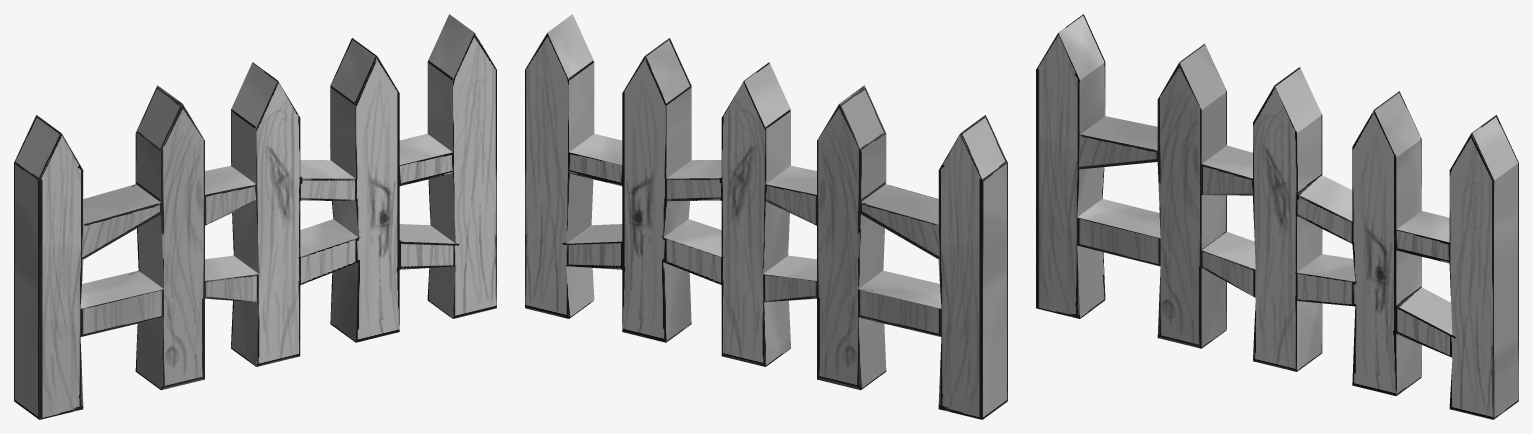
The model's file is AITA.fbx.
3 views of the same model, side by side, from view 1: azimuth 30°, elevation 25°; view 2: azimuth 150°, elevation 25°; view 3: azimuth 330°, elevation 25° (orthographic).
Visible parts, largest first — view 1: AITA; view 2: AITA; view 3: AITA.
Part boxes in pixels (x1,y1,x2,y2): AITA: (14,14,496,419); AITA: (525,14,1007,419); AITA: (1036,14,1518,419).
Size of the model in its own units: 210 by 124 by 20.23.
